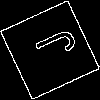J: (25, 25, 78, 68)
